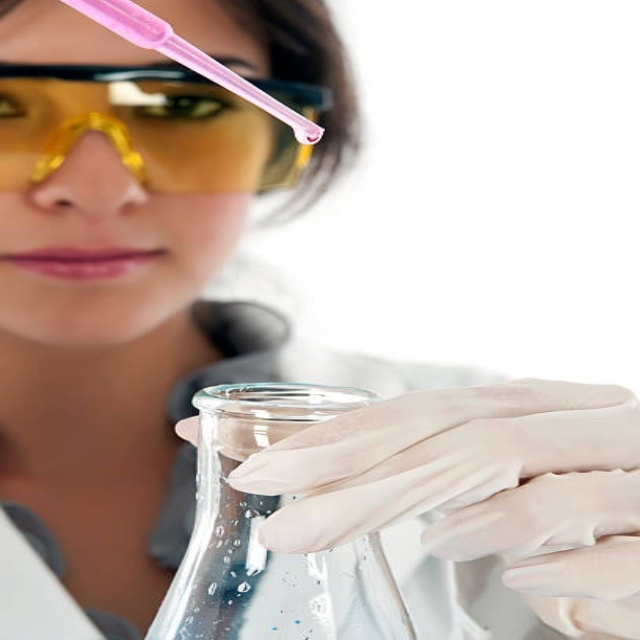Gafas: (0, 67, 333, 196)
Guantes: (173, 365, 631, 633)
Sin_mascara: (3, 223, 179, 327)
